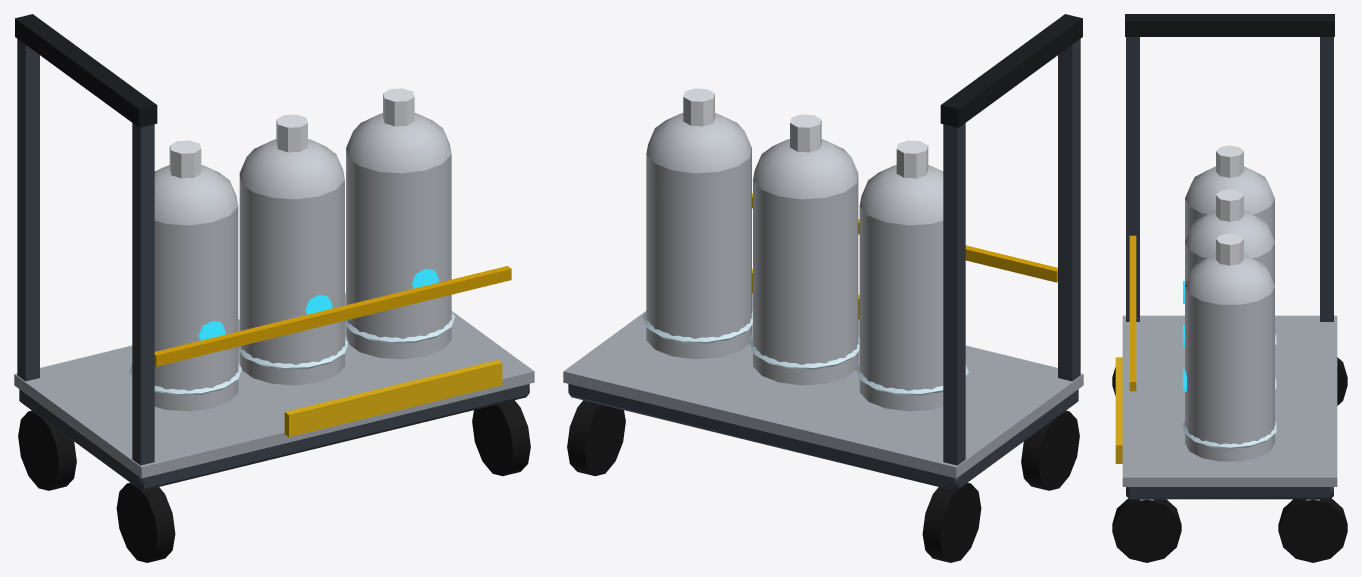
File: barrel_cryo_flask_cart.glb
The picture shows the model from 3 angles, left to right: view 1: azimuth 30°, elevation 25°; view 2: azimuth 150°, elevation 25°; view 3: azimuth 270°, elevation 25°; orthographic projection. The views are drawn at different scales.
Visible parts, largest first — view 1: barrel_cryo_flask_cart; view 2: barrel_cryo_flask_cart; view 3: barrel_cryo_flask_cart.
Boxes of the visible parts, <box> form: barrel_cryo_flask_cart: <box>14,14,534,562</box>; barrel_cryo_flask_cart: <box>563,14,1083,562</box>; barrel_cryo_flask_cart: <box>1112,14,1347,562</box>.
Bounding box in the file's own units: 1.11 × 1.25 × 0.68.
